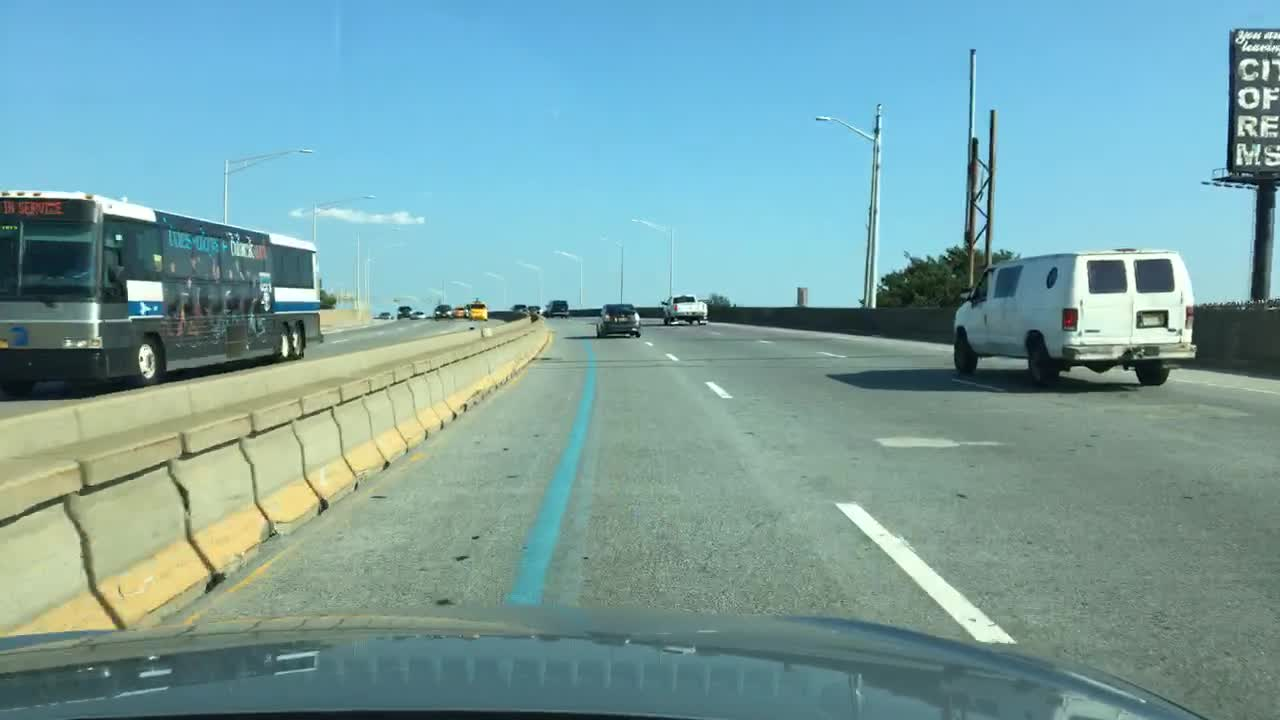bus: (0, 188, 320, 393), (467, 302, 487, 319)
car: (953, 246, 1200, 389), (595, 303, 640, 337), (542, 298, 571, 318), (433, 303, 453, 318), (396, 304, 412, 318), (525, 306, 542, 318), (508, 304, 528, 314), (408, 308, 426, 319), (451, 304, 467, 316), (377, 310, 393, 320)
truck: (659, 294, 709, 327)
